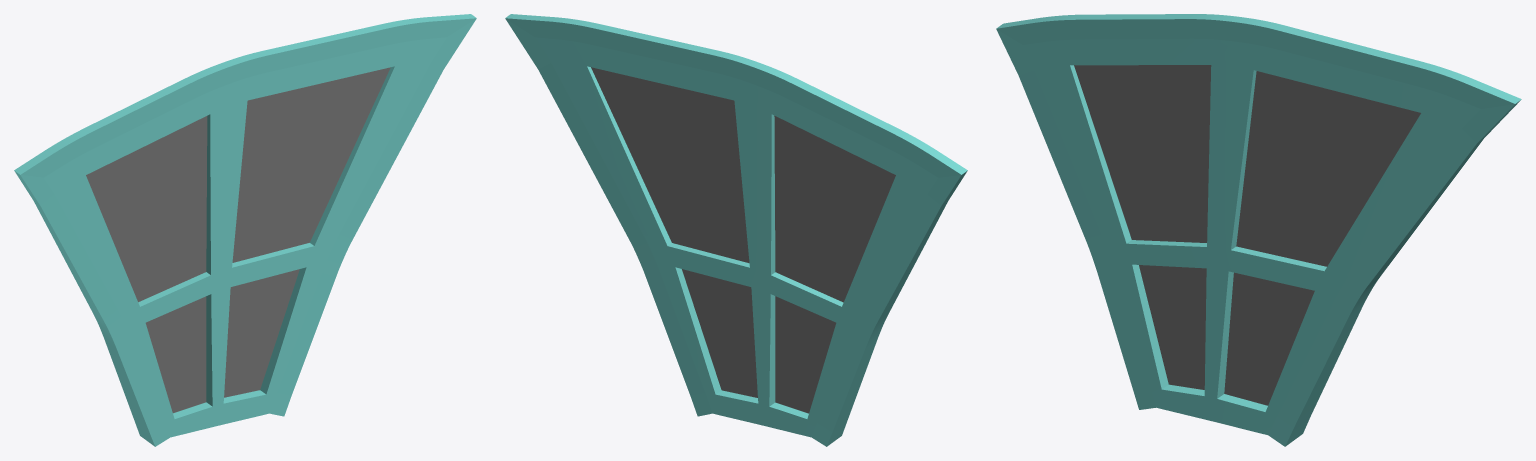
File: door_02 1.fbx
3 renders of one model, left to right at view 1: azimuth 30°, elevation 25°; view 2: azimuth 150°, elevation 25°; view 3: azimuth 330°, elevation 25°, orthographic. The views are drawn at different scales.
Visible parts, largest first — view 1: Box004, Object001; view 2: Box004, Object001; view 3: Box004, Object001.
Boxes of the visible parts, box(x1,y1,x2,y2) form: Box004: box(44, 37, 446, 437); Object001: box(14, 14, 476, 446); Box004: box(535, 37, 937, 437); Object001: box(505, 14, 967, 446); Box004: box(1023, 38, 1480, 434); Object001: box(996, 14, 1521, 446).
Size of the model in its own units: 84.77 by 63.9 by 5.08.
